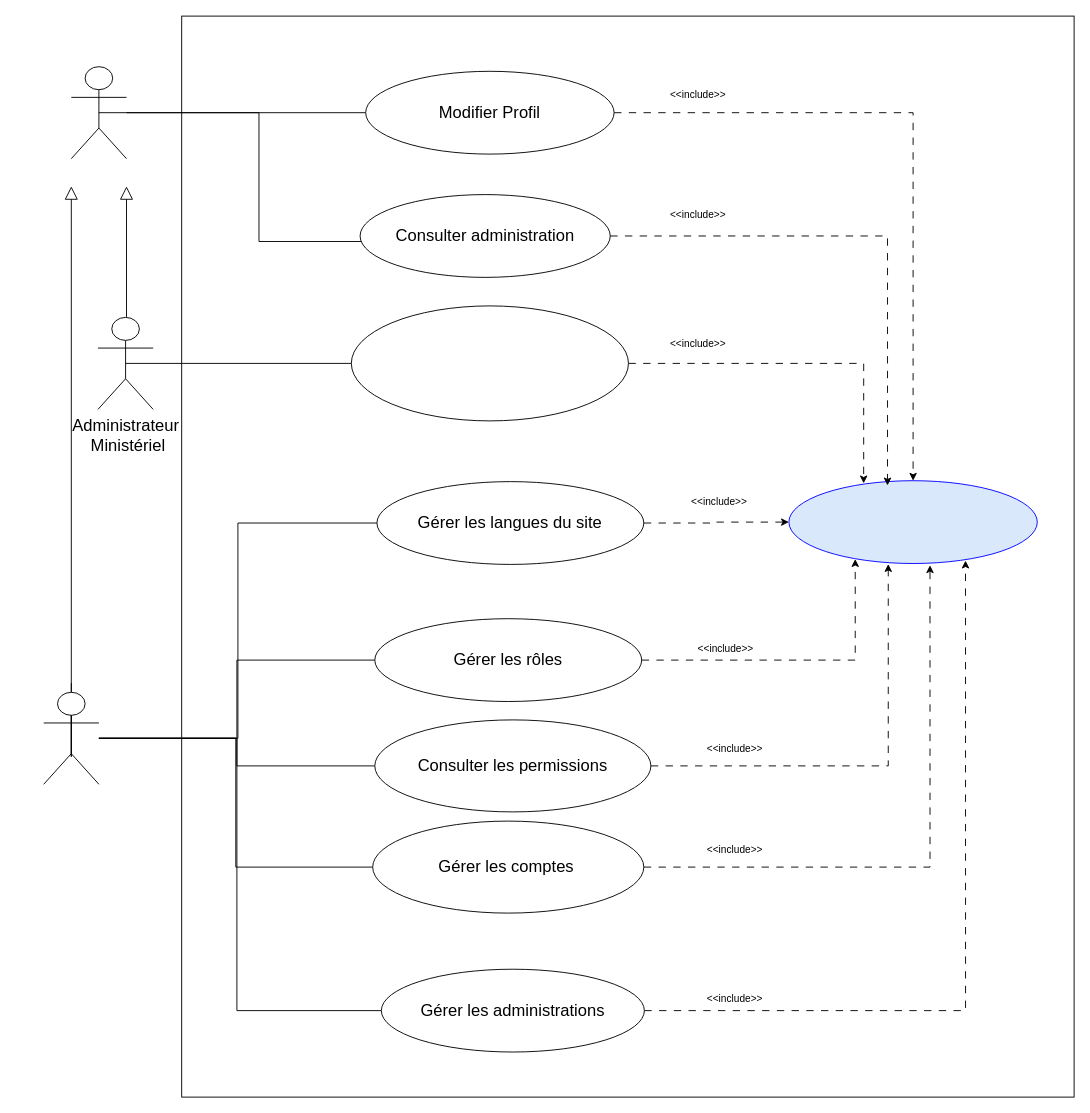
Image size: 1090x1113. Some labels were removed from this diagram. The shapes that lost their labels are listed below. From the top down, each one's box as (x1, y1, x2, y2) in pixels, then its label:
(70, 66, 126, 159): Administrateur
(350, 305, 628, 421): Gérer les comptes des administrateurs institutionnels
(788, 480, 1037, 564): S'authentifier
(43, 691, 99, 784): Administrateur système
